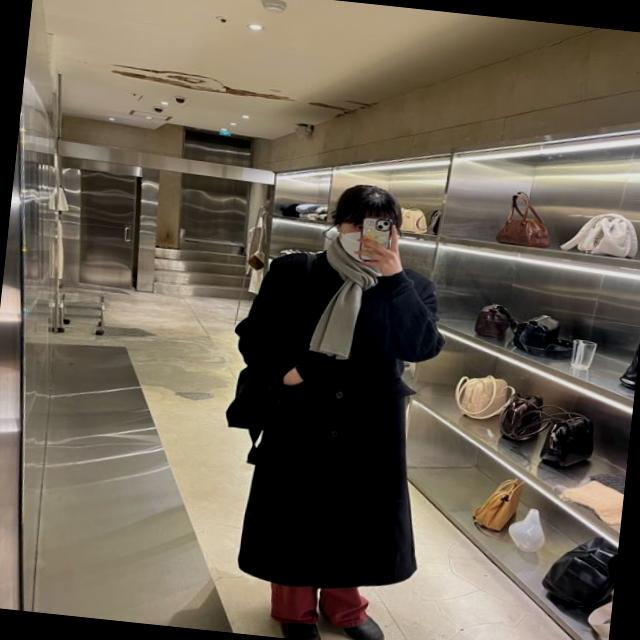coat: (215, 242, 446, 592)
cottonpants: (266, 576, 368, 634)
